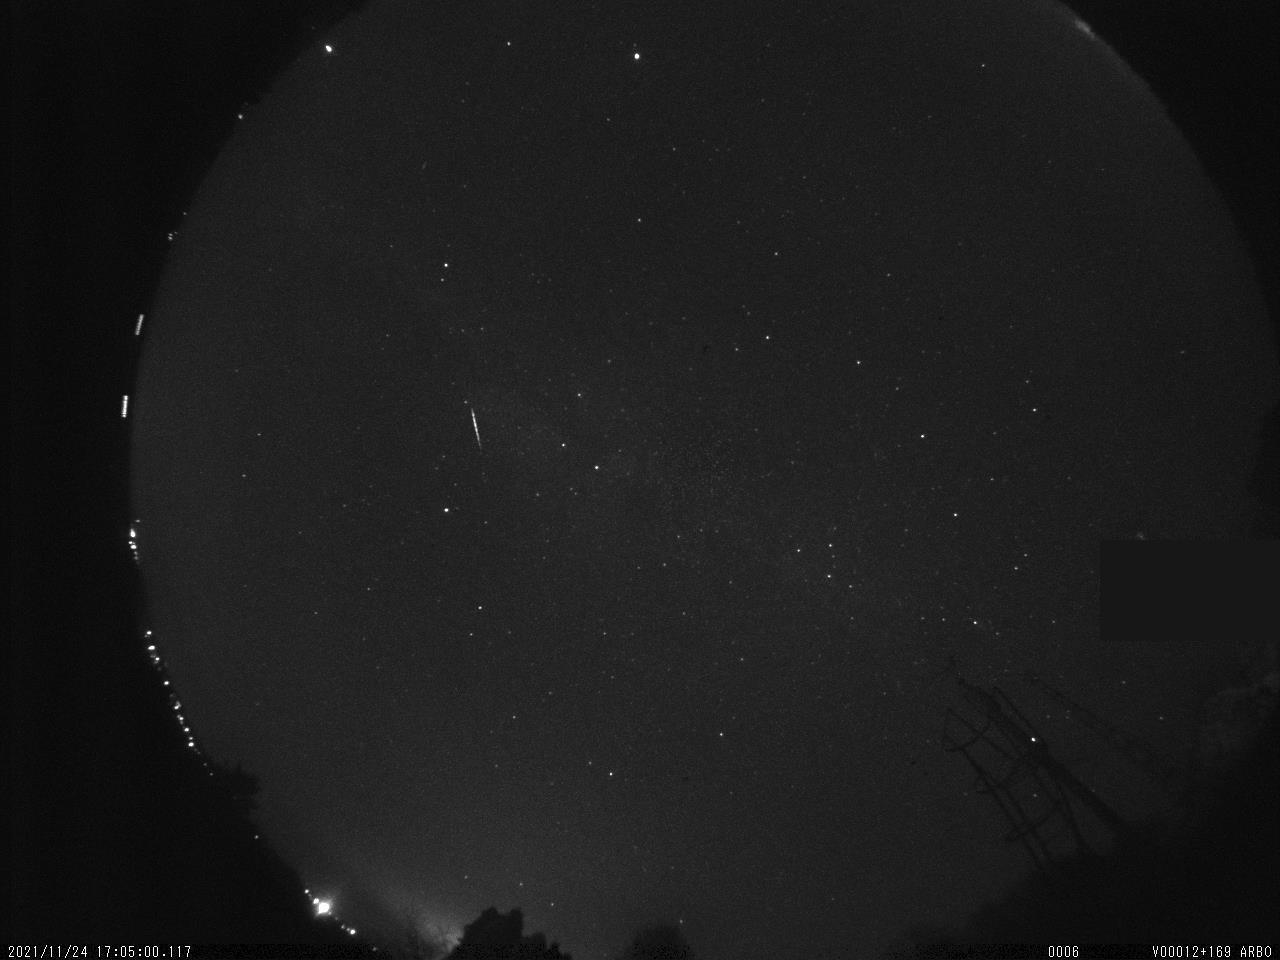meteor: (454, 399, 496, 458)
